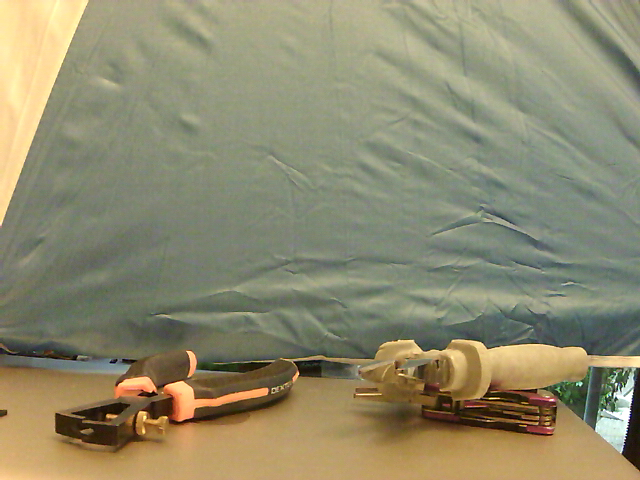pliers: (353, 336, 595, 438)
